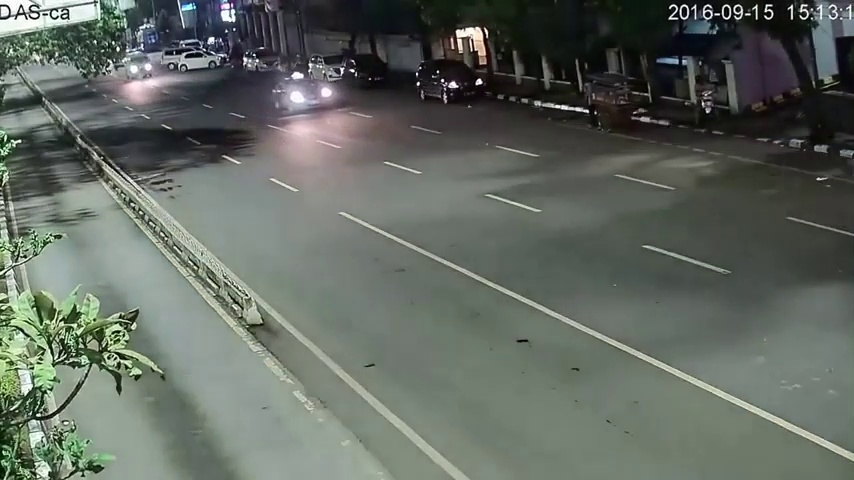car: (415, 57, 485, 107), (271, 75, 330, 116), (344, 52, 388, 86), (242, 47, 281, 75), (310, 53, 343, 81), (179, 52, 227, 71), (122, 57, 152, 81)
motorbike: (693, 75, 719, 131)
